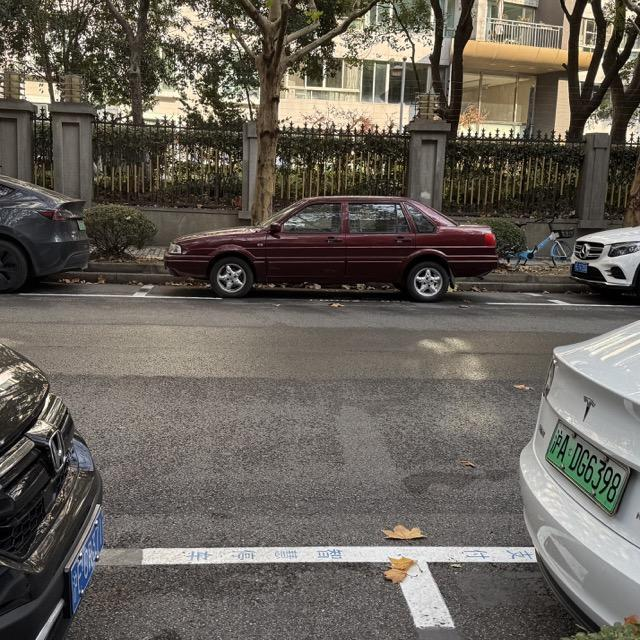curb: (50, 272, 208, 287), (448, 283, 579, 294), (256, 285, 388, 291)
